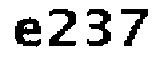2: (46, 7, 79, 51)
3: (80, 5, 113, 52)
7: (118, 4, 149, 49)
e: (13, 14, 43, 48)
